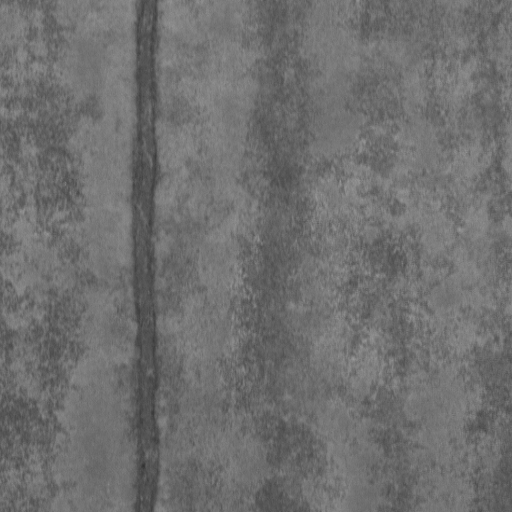zongxiangliewen: (128, 1, 161, 512)
